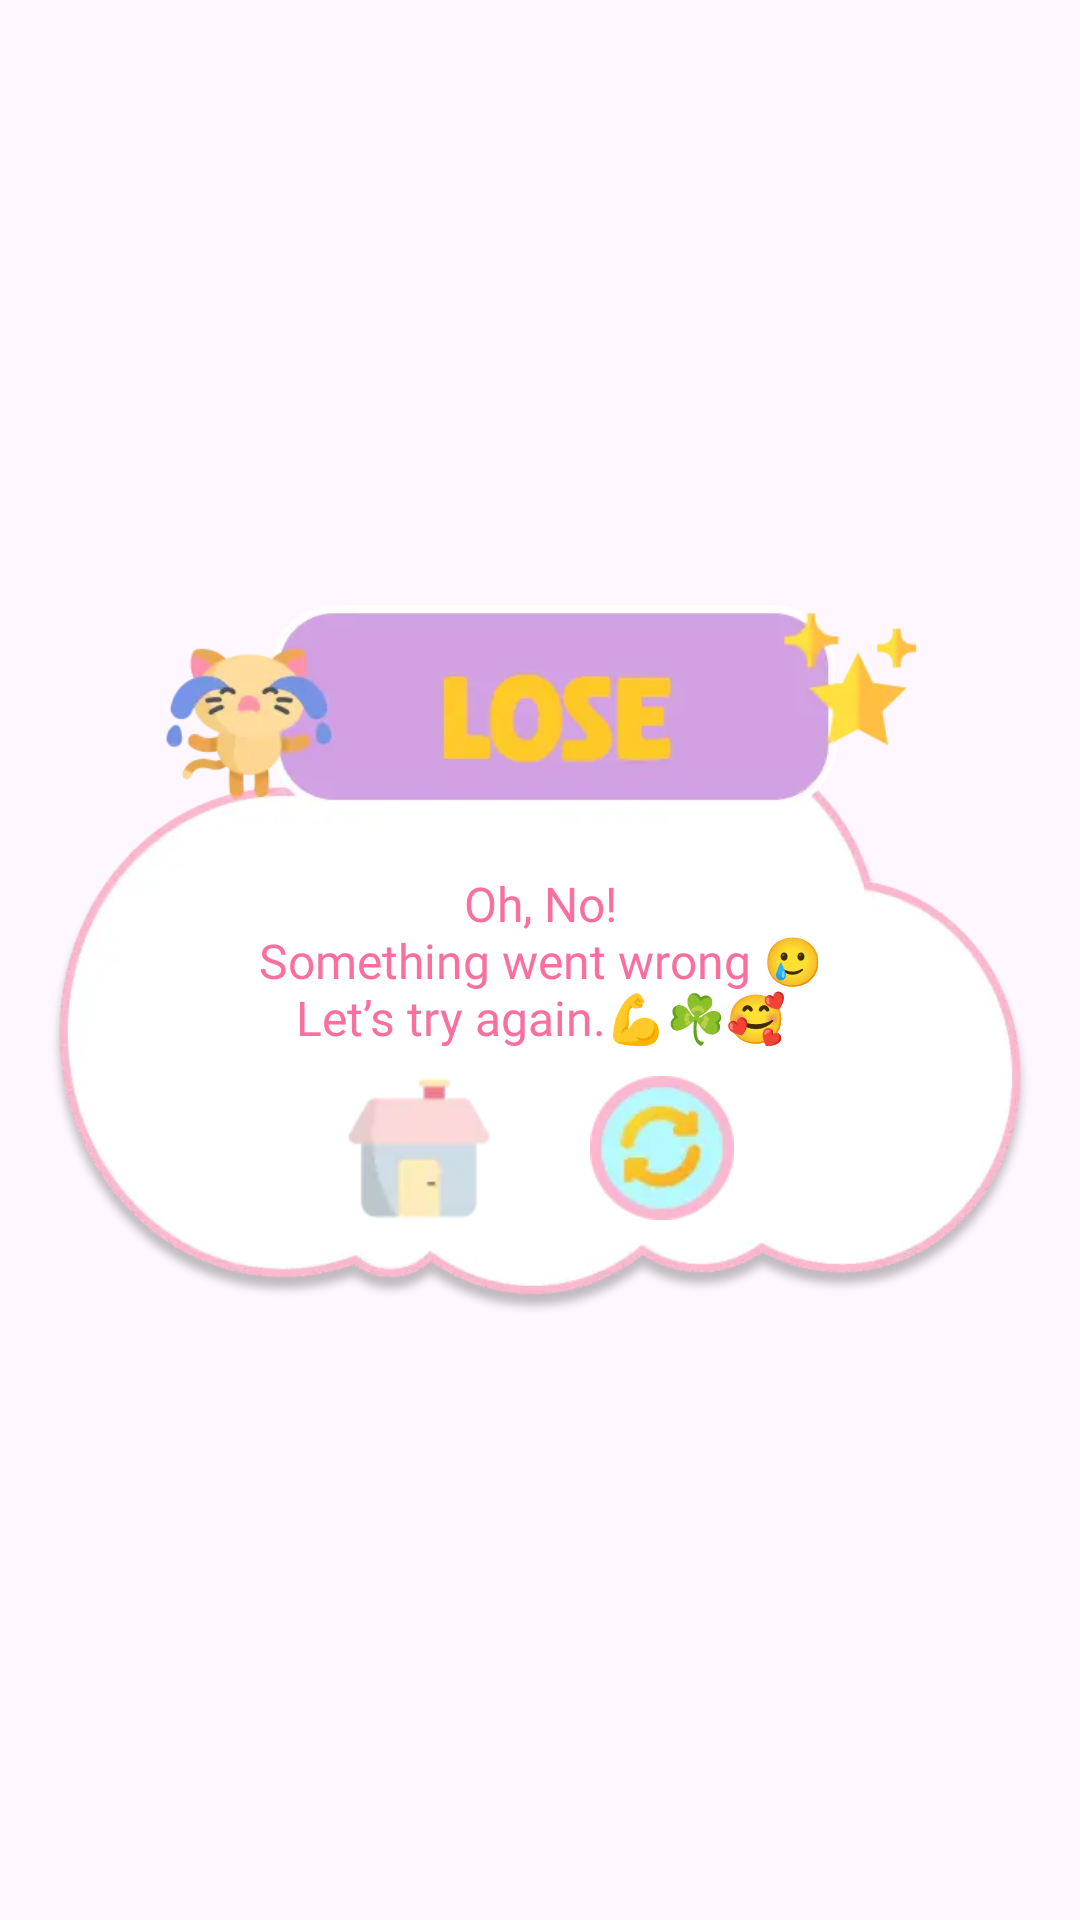

Named icons in this screenshot (1080×1920) and their centers, point (x, y):
home: point (419, 1148)
replay: point (662, 1148)
